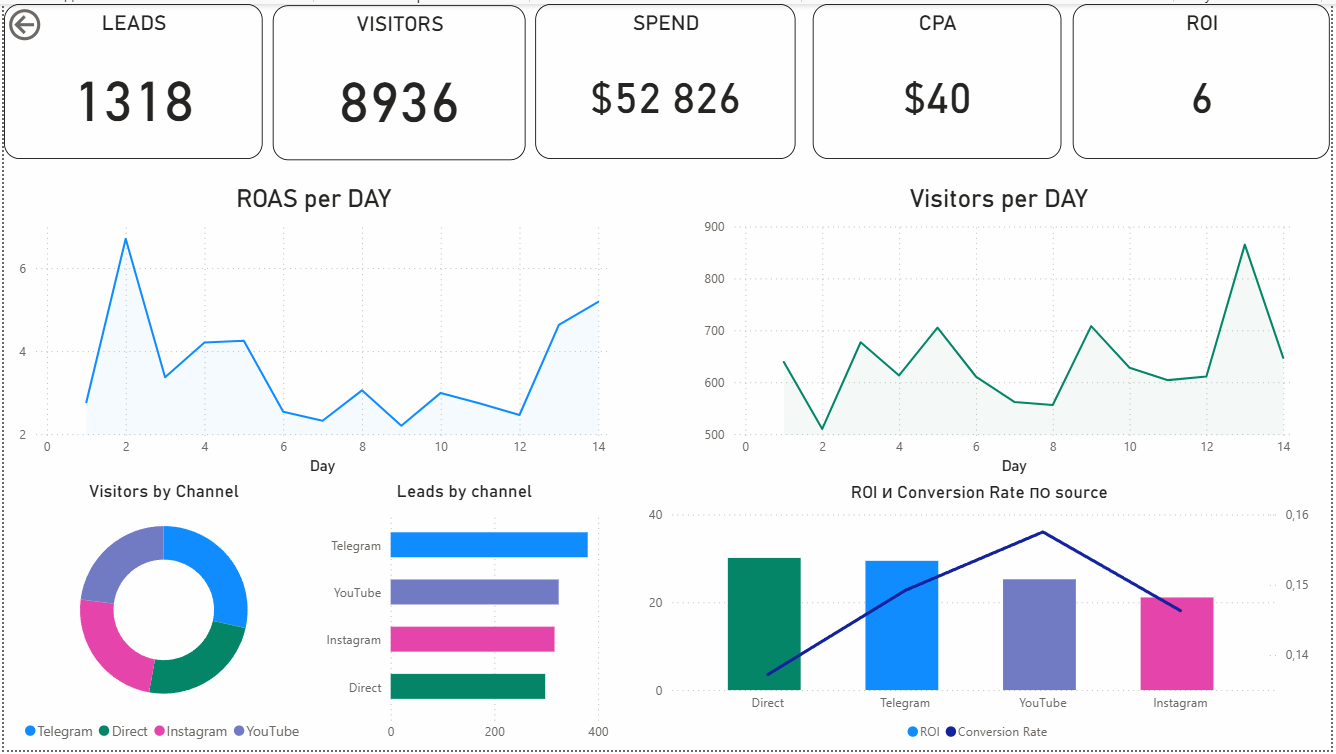

What the dashboard file says about the page in this screenshot:
{"tool":"powerbi","page":{"name":"Страница 1","canvas":[1280,720],"ordinal":0},"visuals":[{"type":"card","title":"LEADS","fields":{"Values":["DateTable.Total Leads"]},"box":[0,0,249.7,149.6],"z":0},{"type":"card","title":"VISITORS","fields":{"Values":["marketing_summary.Total Sessions"]},"box":[259.3,1.4,244.3,149.6],"z":1000},{"type":"card","title":"SPEND","fields":{"Values":["DateTable.Ad Cost"]},"box":[513.2,0,251.1,149.6],"z":2000},{"type":"card","title":"CPA","fields":{"Values":["marketing_summary.CPA"]},"box":[780.8,0,240.1,149.6],"z":3000},{"type":"actionButton","box":[0,0,100,40],"z":4000},{"type":"stackedAreaChart","title":"ROAS per DAY","fields":{"Category":["DateTable.Date.Изменение.Иерархия дат.День"],"Y":["DateTable.ROAS"]},"box":[9.6,174.3,579.1,285.4],"z":5000},{"type":"stackedAreaChart","title":"Visitors per DAY","fields":{"Category":["DateTable.Date.Изменение.Иерархия дат.День"],"Y":["Sum(marketing_summary.sessions)"]},"box":[671,174.3,579.1,285.4],"z":6000},{"type":"donutChart","title":"Visitors by Channel","fields":{"Category":["marketing_summary.source"],"Y":["marketing_summary.Total Sessions"]},"box":[9.6,459.7,289.5,260.7],"z":7000},{"type":"barChart","title":"Leads by channel","fields":{"Category":["marketing_summary.source"],"Y":["Sum(marketing_summary.leads)"]},"box":[300.5,459.7,288.2,260.7],"z":8000},{"type":"lineClusteredColumnComboChart","fields":{"Category":["marketing_summary.source"],"Y":["marketing_summary.ROI"],"Y2":["marketing_summary.Conversion Rate"]},"box":[617.5,459.7,647.7,260.7],"z":8002},{"type":"card","title":"ROI","fields":{"Values":["marketing_summary.ROI"]},"box":[1031.9,0,248.4,149.6],"z":8003}]}

Visuals, with their boxes in screenshot pixels (x1, y1, x2, y2), scaled from the page's 1280x720 canvas onto the 1336x754 screenshot:
"LEADS" card: x1=0 y1=0 x2=261 y2=157
"VISITORS" card: x1=271 y1=1 x2=526 y2=158
"SPEND" card: x1=536 y1=0 x2=798 y2=157
"CPA" card: x1=815 y1=0 x2=1066 y2=157
actionButton: x1=0 y1=0 x2=104 y2=42
"ROAS per DAY" stackedAreaChart: x1=10 y1=183 x2=614 y2=481
"Visitors per DAY" stackedAreaChart: x1=700 y1=183 x2=1305 y2=481
"Visitors by Channel" donutChart: x1=10 y1=481 x2=312 y2=753
"Leads by channel" barChart: x1=314 y1=481 x2=614 y2=753
lineClusteredColumnComboChart - marketing_summary.source x marketing_summary.ROI: x1=645 y1=481 x2=1321 y2=753
"ROI" card: x1=1077 y1=0 x2=1335 y2=157
